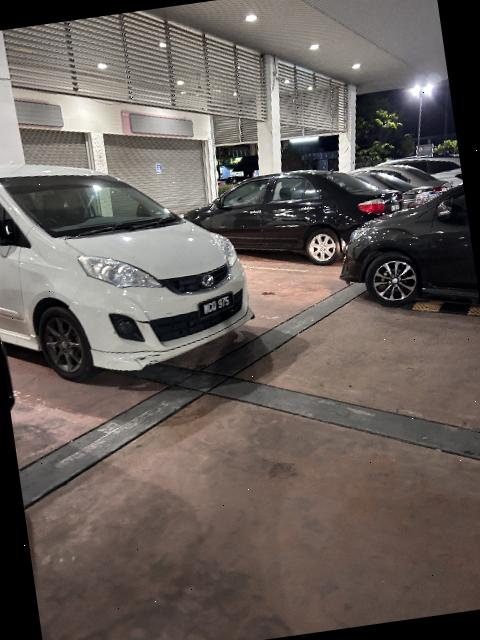License_Plate: (195, 290, 238, 323)
car: (1, 125, 264, 396), (170, 139, 457, 290), (331, 180, 480, 327)
